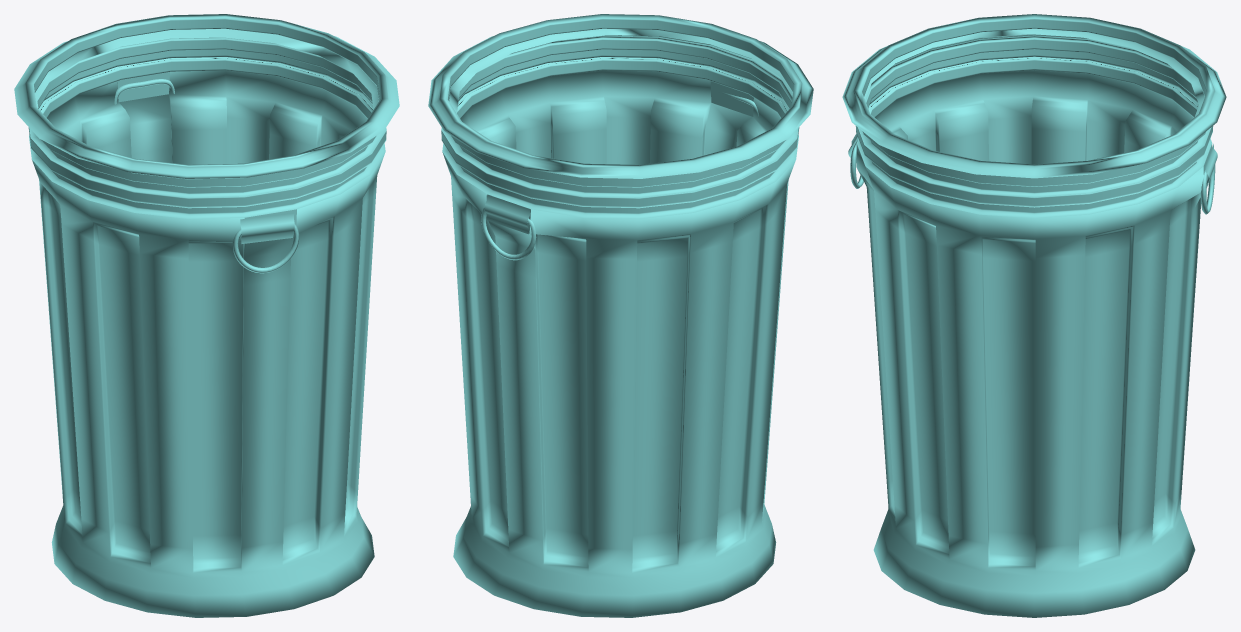
The model's file is blueTrash.fbx.
3 views of the same model, side by side, from view 1: azimuth 30°, elevation 25°; view 2: azimuth 150°, elevation 25°; view 3: azimuth 270°, elevation 25° (orthographic).
Parts seen in each view (by area): view 1: Cylinder; view 2: Cylinder; view 3: Cylinder.
Boxes of the visible parts, box(x1,y1,x2,y2) form: Cylinder: box(14, 14, 399, 617); Cylinder: box(428, 14, 813, 617); Cylinder: box(842, 14, 1226, 617).
Size of the model in its own units: 212 by 278 by 212.
